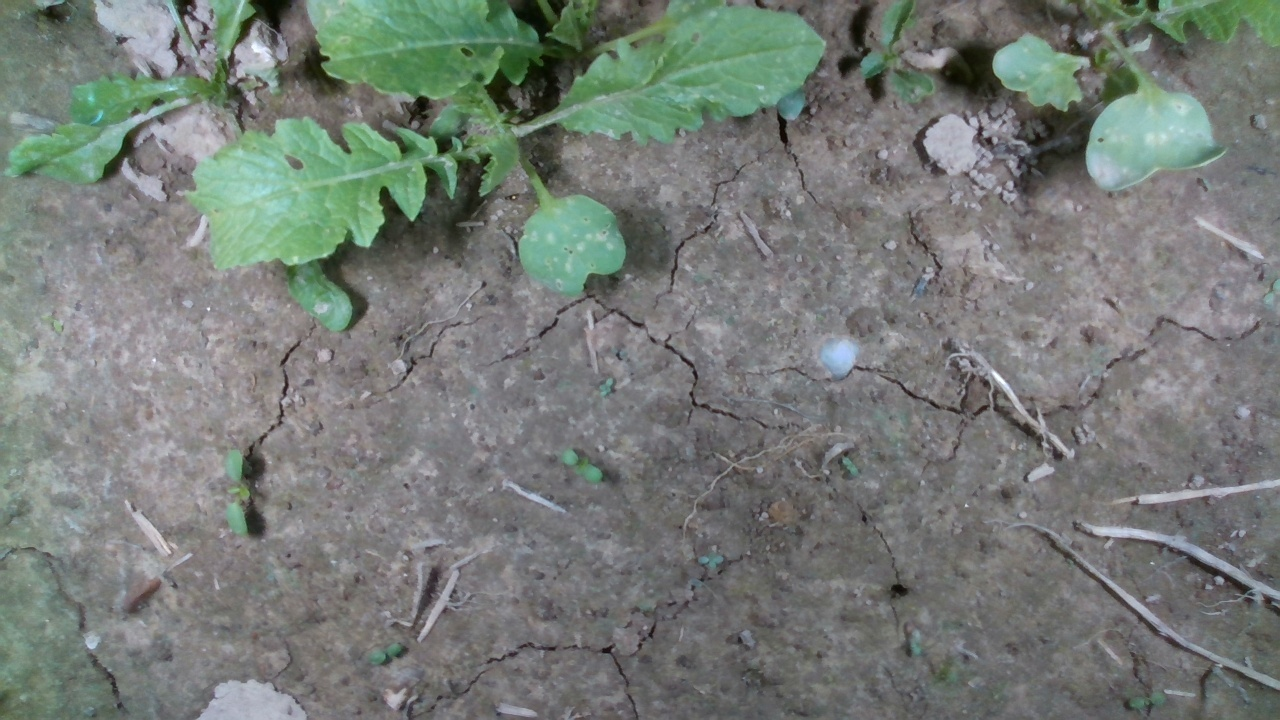weed: (222, 449, 252, 537), (554, 447, 608, 486)
